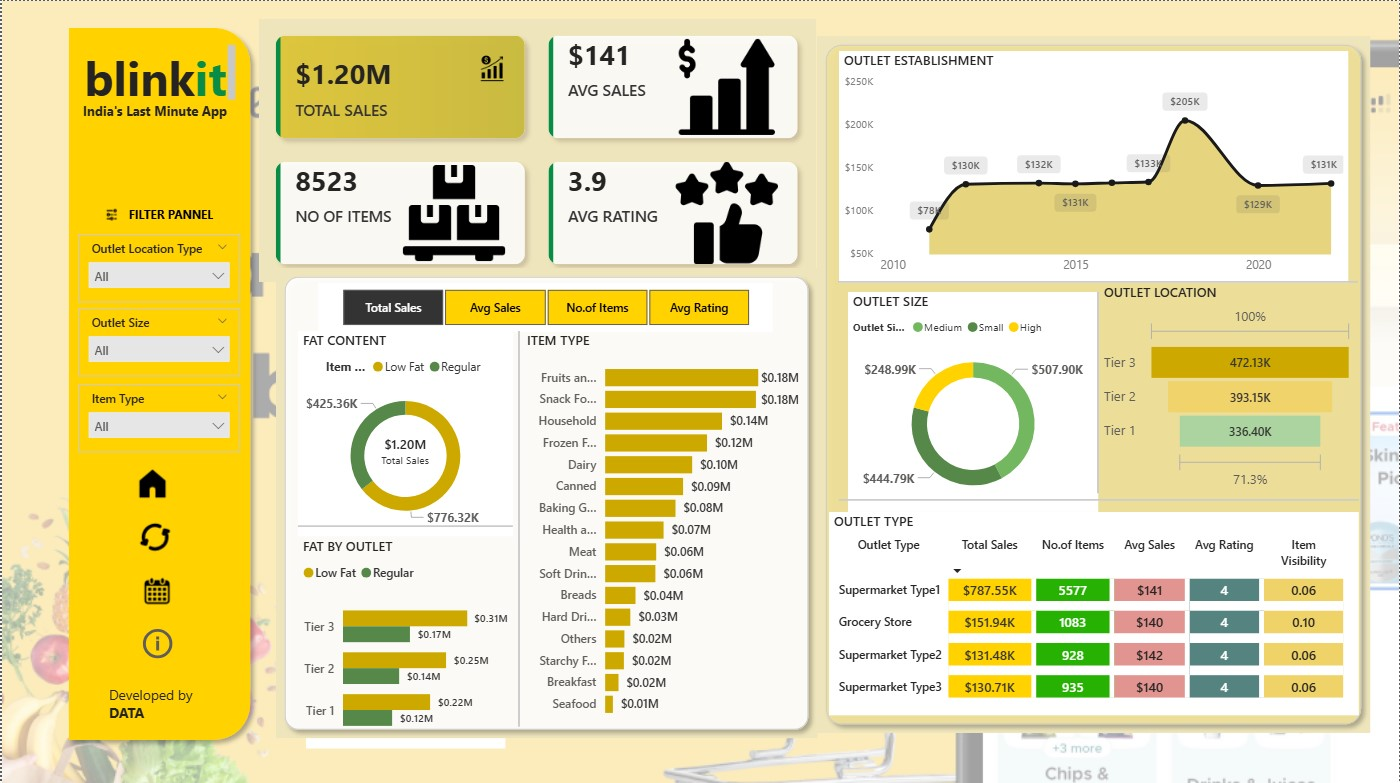

The dashboard page shown, as its layout file describes it:
{"tool":"powerbi","page":{"name":"Page 1","canvas":[1400,800],"ordinal":0},"visuals":[{"type":"shape","box":[59,18.8,203.8,746.7],"z":0},{"type":"textbox","box":[485.3,522.8,203.8,68.4],"z":1000},{"type":"textbox","box":[311,654.2,203.8,111.3],"z":2000},{"type":"textbox","box":[311,504,204,150],"z":3000},{"type":"textbox","box":[77.7,40.2,166.2,69.7],"z":4000},{"type":"textbox","box":[77.7,97.9,176.9,33.5],"z":5000},{"type":"cardVisual","fields":{"Data":["BlinkIT Grocery Data.Total Sales","BlinkIT Grocery Data.Avg Sales","BlinkIT Grocery Data.No.of Items","BlinkIT Grocery Data.Avg Rating"]},"box":[262.7,18.8,569.7,269.4],"z":6000},{"type":"shape","box":[280.2,273.5,553.6,481.2],"z":7000},{"type":"donutChart","title":"FAT CONTENT","fields":{"Y":["BlinkIT Grocery Data.Total Sales"],"Category":["BlinkIT Grocery Data.Item Fat Content"]},"box":[303,337.8,219.8,210.5],"z":8000},{"type":"slicer","fields":{"Values":["Metrics.Metrics"]},"box":[323.1,288.2,465.1,49.6],"z":9000},{"type":"cardVisual","fields":{"Data":["BlinkIT Grocery Data.Total Sales"]},"box":[355.2,434.3,115.3,52.3],"z":10000},{"type":"clusteredBarChart","title":"FAT BY OUTLET","fields":{"Y":["BlinkIT Grocery Data.Total Sales"],"Category":["BlinkIT Grocery Data.Outlet Location Type"],"Series":["BlinkIT Grocery Data.Item Fat Content"]},"box":[303,548.3,219.8,217.2],"z":11000},{"type":"shape","box":[303,525.5,219.8,22.8],"z":12000},{"type":"shape","box":[509.4,337.8,38.9,404.8],"z":13000},{"type":"barChart","title":"ITEM TYPE","fields":{"Y":["BlinkIT Grocery Data.Total Sales"],"Category":["BlinkIT Grocery Data.Item Type"]},"box":[532.2,337.8,288.2,404.8],"z":14000},{"type":"shape","box":[833.8,36.2,565.7,713.1],"z":15000},{"type":"lineChart","title":"OUTLET ESTABLISHMENT","fields":{"Category":["BlinkIT Grocery Data.Outlet Establishment Year"],"Y":["BlinkIT Grocery Data.Total Sales"]},"box":[856.6,50.9,521.5,237.3],"z":16000},{"type":"shape","box":[855.2,281.5,532.2,12.1],"z":17000},{"type":"donutChart","title":"OUTLET SIZE","fields":{"Y":["BlinkIT Grocery Data.Total Sales"],"Category":["BlinkIT Grocery Data.Outlet Size"]},"box":[866,297.6,256,225.2],"z":18000},{"type":"shape","box":[1101.9,297.6,38.9,206.4],"z":19000},{"type":"funnel","title":"OUTLET LOCATION","fields":{"Category":["BlinkIT Grocery Data.Outlet Location Type"],"Y":["Sum(BlinkIT Grocery Data.Sales)"]},"box":[1122,288.2,265.4,215.8],"z":20000},{"type":"shape","box":[856.6,504,532.2,12.1],"z":21000},{"type":"pivotTable","title":"OUTLET TYPE","fields":{"Rows":["BlinkIT Grocery Data.Outlet Type"],"Values":["BlinkIT Grocery Data.Total Sales","BlinkIT Grocery Data.No.of Items","BlinkIT Grocery Data.Avg Sales","BlinkIT Grocery Data.Avg Rating","Avg(BlinkIT Grocery Data.Item Visibility)"]},"box":[845.8,522.8,541.6,207.8],"z":22000},{"type":"slicer","fields":{"Values":["BlinkIT Grocery Data.Outlet Location Type"]},"box":[77.7,238.6,166.2,69.7],"z":23000},{"type":"slicer","fields":{"Values":["BlinkIT Grocery Data.Outlet Size"]},"box":[77.7,313.7,166.2,69.7],"z":24000},{"type":"slicer","fields":{"Values":["BlinkIT Grocery Data.Item Type"]},"box":[77.7,391.4,166.2,69.7],"z":25000},{"type":"actionButton","box":[139.4,636.7,40.2,42.9],"z":26000},{"type":"actionButton","box":[126,466.5,67,56.3],"z":27000},{"type":"actionButton","box":[126,517.4,77.7,61.7],"z":28000},{"type":"actionButton","box":[126,571,73.7,65.7],"z":29000},{"type":"actionButton","box":[93.8,198.4,126,40.2],"z":30000},{"type":"textbox","box":[104.6,694.4,99.2,48.3],"z":31000}]}

Visuals, with their boxes on the page's 1400x800 design canvas (x1, y1, x2, y2). These are canvas units, not pixel positions in the 1400x783 screenshot, which may show the page scaled, cropped or inside an application window:
shape: 59:19:263:766
textbox: 485:523:689:591
textbox: 311:654:515:766
textbox: 311:504:515:654
textbox: 78:40:244:110
textbox: 78:98:255:131
cardVisual - BlinkIT Grocery Data.Total Sales x BlinkIT Grocery Data.Avg Sales: 263:19:832:288
shape: 280:274:834:755
"FAT CONTENT" donutChart: 303:338:523:548
slicer - Metrics.Metrics: 323:288:788:338
cardVisual - BlinkIT Grocery Data.Total Sales: 355:434:470:487
"FAT BY OUTLET" clusteredBarChart: 303:548:523:766
shape: 303:526:523:548
shape: 509:338:548:743
"ITEM TYPE" barChart: 532:338:820:743
shape: 834:36:1400:749
"OUTLET ESTABLISHMENT" lineChart: 857:51:1378:288
shape: 855:282:1387:294
"OUTLET SIZE" donutChart: 866:298:1122:523
shape: 1102:298:1141:504
"OUTLET LOCATION" funnel: 1122:288:1387:504
shape: 857:504:1389:516
"OUTLET TYPE" pivotTable: 846:523:1387:731
slicer - BlinkIT Grocery Data.Outlet Location Type: 78:239:244:308
slicer - BlinkIT Grocery Data.Outlet Size: 78:314:244:383
slicer - BlinkIT Grocery Data.Item Type: 78:391:244:461
actionButton: 139:637:180:680
actionButton: 126:466:193:523
actionButton: 126:517:204:579
actionButton: 126:571:200:637
actionButton: 94:198:220:239
textbox: 105:694:204:743
